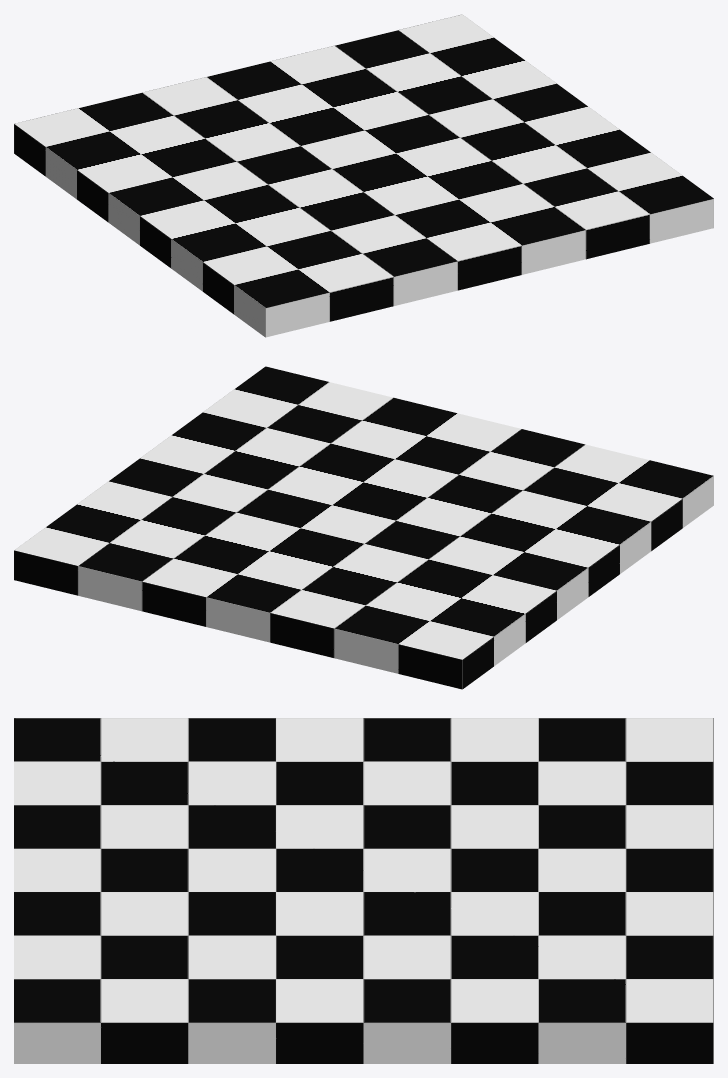
The model's file is Finish.fbx.
The picture shows the model from 3 angles, top to bottom: view 1: azimuth 30°, elevation 25°; view 2: azimuth 150°, elevation 25°; view 3: azimuth 270°, elevation 25°; orthographic projection. The views are drawn at different scales.
Visible parts, largest first — view 1: Finish; view 2: Finish; view 3: Finish.
Part boxes in pixels (box(x1,y1,x2,y2)): Finish: box(14, 14, 713, 337); Finish: box(14, 366, 713, 689); Finish: box(14, 718, 713, 1063).
Size of the model in its own units: 5 by 0.3159 by 4.86.
